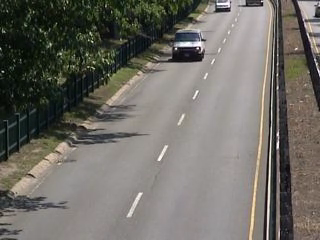car: (213, 1, 232, 14)
truck: (170, 28, 207, 61)
